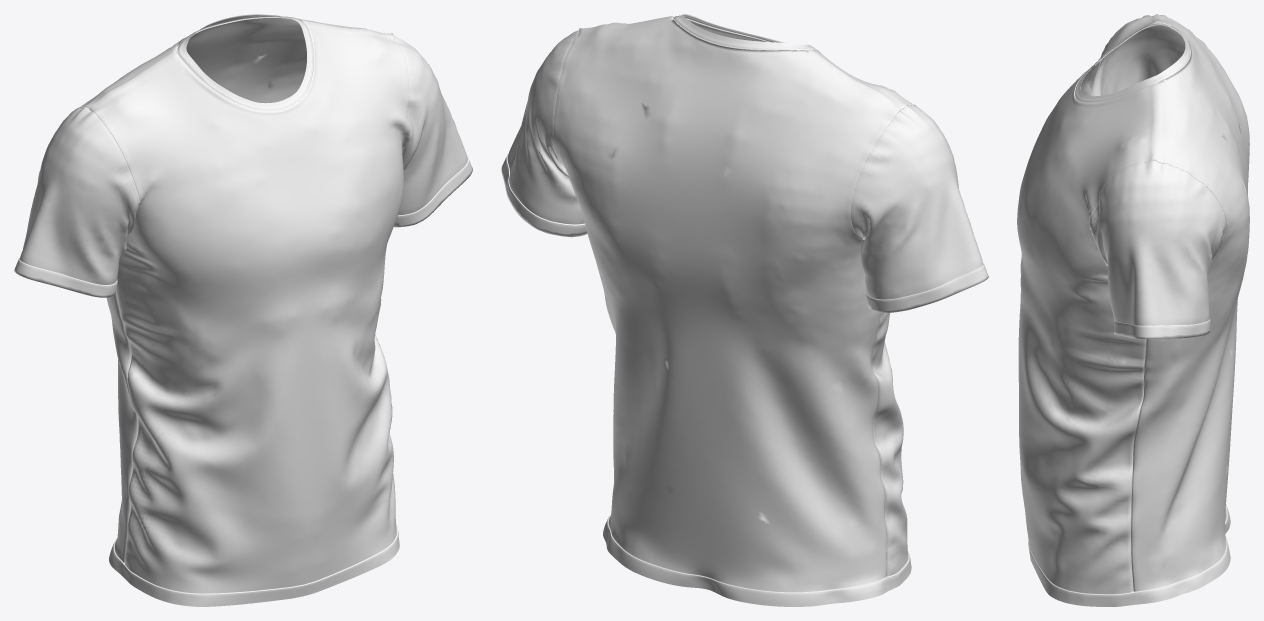
The model's file is euler_tshirt_3mb.glb.
3 renders of one model, left to right at view 1: azimuth 30°, elevation 25°; view 2: azimuth 150°, elevation 25°; view 3: azimuth 270°, elevation 25°, orthographic. The views are drawn at different scales.
Parts seen in each view (by area): view 1: T_Shirt_exterieur_ext_0, T_Shirt_int_int_0; view 2: T_Shirt_exterieur_ext_0, T_Shirt_int_int_0; view 3: T_Shirt_exterieur_ext_0, T_Shirt_int_int_0.
Boxes of the visible parts, x1,y1,x2,y2 form: T_Shirt_exterieur_ext_0: [14, 16, 472, 606]; T_Shirt_int_int_0: [140, 14, 409, 204]; T_Shirt_exterieur_ext_0: [501, 14, 988, 606]; T_Shirt_int_int_0: [673, 14, 805, 50]; T_Shirt_exterieur_ext_0: [1017, 14, 1249, 606]; T_Shirt_int_int_0: [1080, 23, 1190, 508].
Bounding box in the file's own units: 0.6394 × 0.6992 × 0.2895.
Materials: 2 (2 with a texture image).
